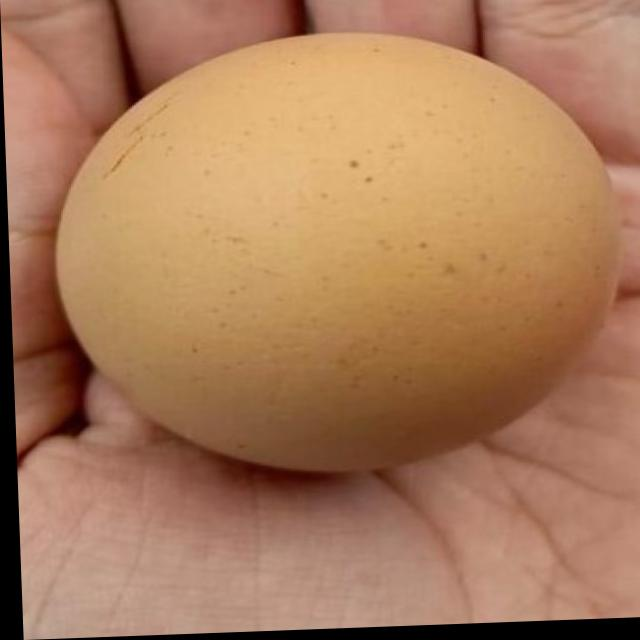unfresh: (51, 18, 634, 493)
